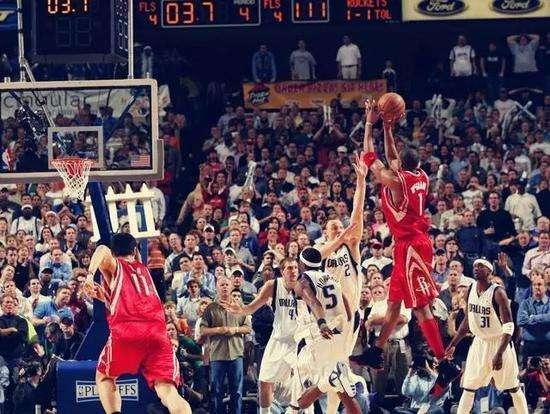ball: (377, 92, 406, 120)
human: (346, 98, 458, 392), (83, 230, 194, 414), (219, 259, 300, 414), (453, 254, 530, 414), (294, 248, 363, 414), (315, 150, 369, 350)
rim: (53, 159, 92, 199)
